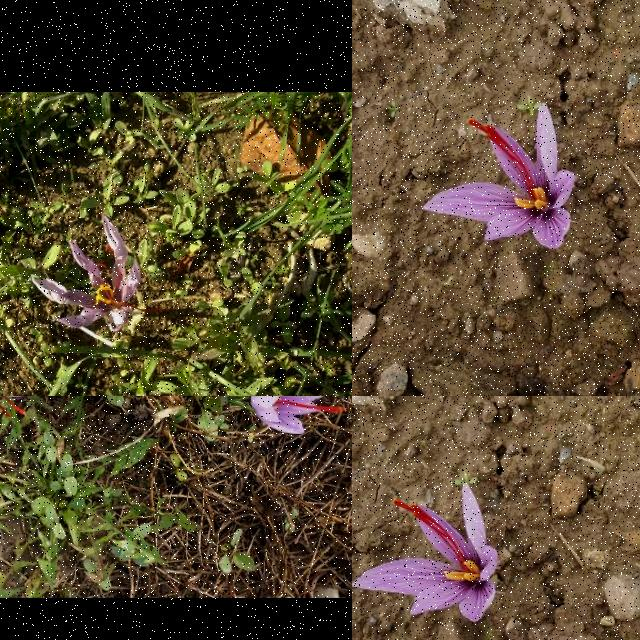flower: (422, 102, 578, 250), (352, 484, 498, 624), (30, 215, 142, 328), (250, 396, 348, 434)
